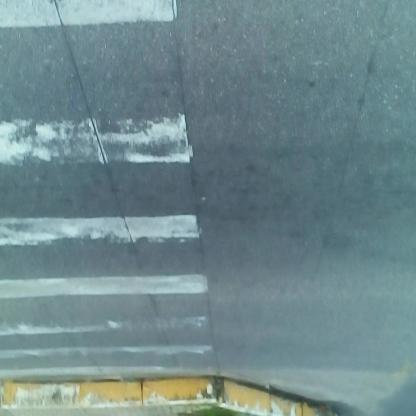crosswalk: (2, 4, 221, 371)
sidewalk: (1, 373, 335, 416)
